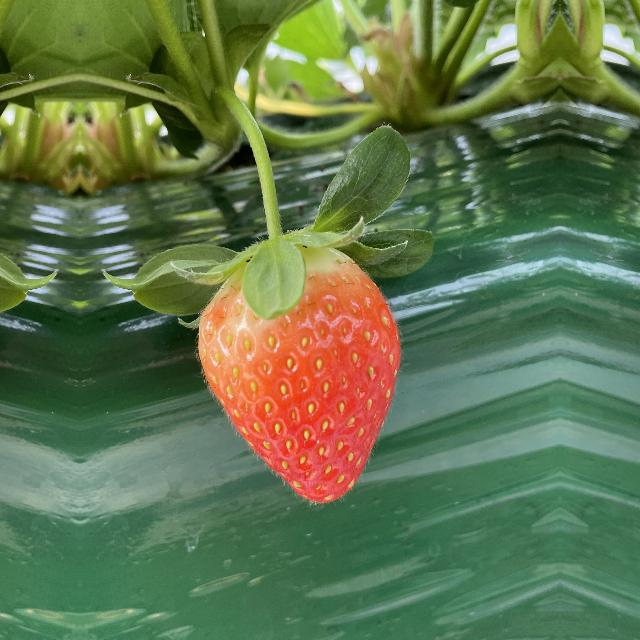Health_100: (193, 234, 411, 522)
